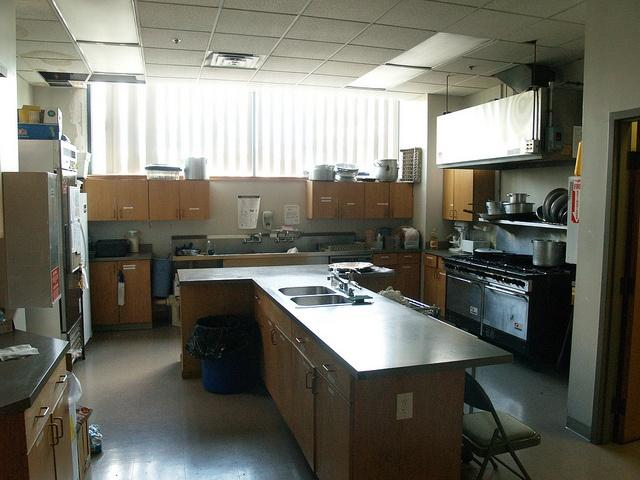Lemari: (82, 178, 209, 219), (307, 180, 414, 219), (440, 168, 475, 221)
